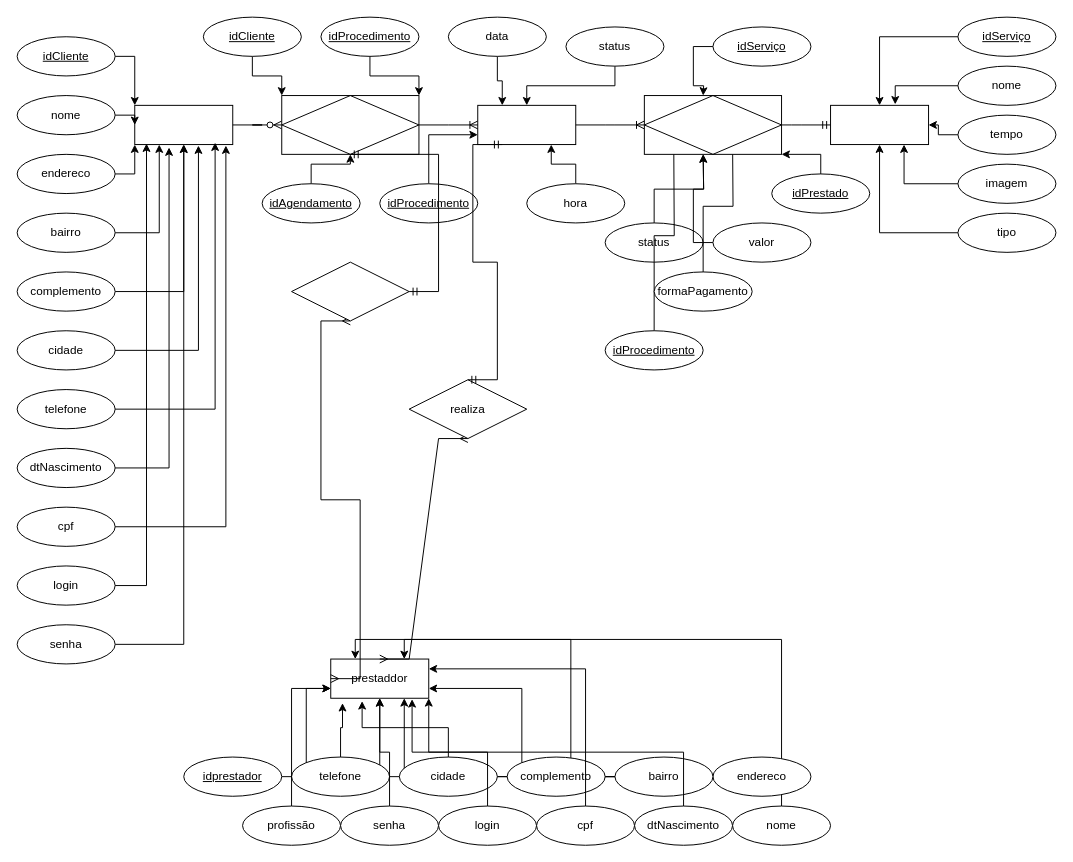
The diagram is 1073 pixels wide and 862 high, and some of its shapes have lost their labels. The shapes that lost their labels are listed below. From the top down, each one's centre as x and y in pixels, then its label:
At (183,124): "cliente".
At (350,124): "agenda".
At (526,124): "procedimento".
At (712,124): "prestado".
At (879,124): "serviço".
At (350,291): "validar".
